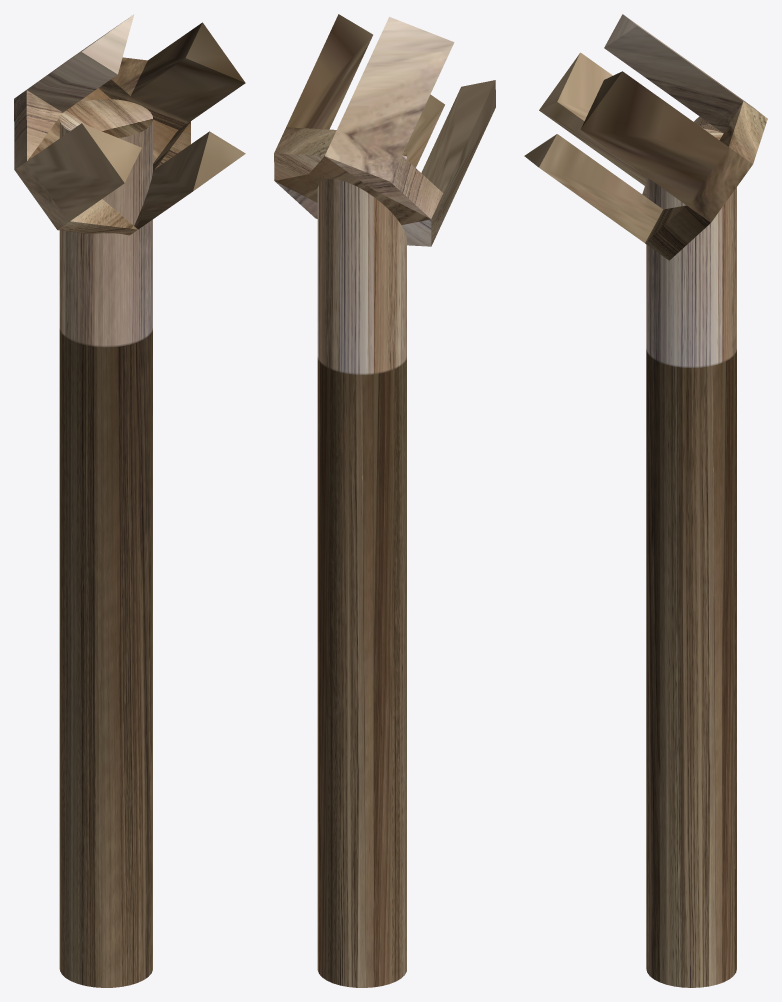
Rendered from Torch.gltf.
3 renders of one model, left to right at view 1: azimuth 30°, elevation 25°; view 2: azimuth 150°, elevation 25°; view 3: azimuth 270°, elevation 25°, orthographic. The views are drawn at different scales.
Visible parts, largest first — view 1: Cylinder, Plane; view 2: Cylinder, Plane; view 3: Cylinder, Plane.
Boxes of the visible parts, bbox=[...] form: Cylinder: bbox=[59, 99, 152, 987]; Plane: bbox=[14, 14, 245, 235]; Cylinder: bbox=[317, 150, 406, 987]; Plane: bbox=[274, 14, 495, 246]; Cylinder: bbox=[646, 128, 736, 987]; Plane: bbox=[524, 14, 767, 260].
Bounding box in the file's own units: 0.4037 × 2.3 × 0.5377.
1 material, 1 textured.
